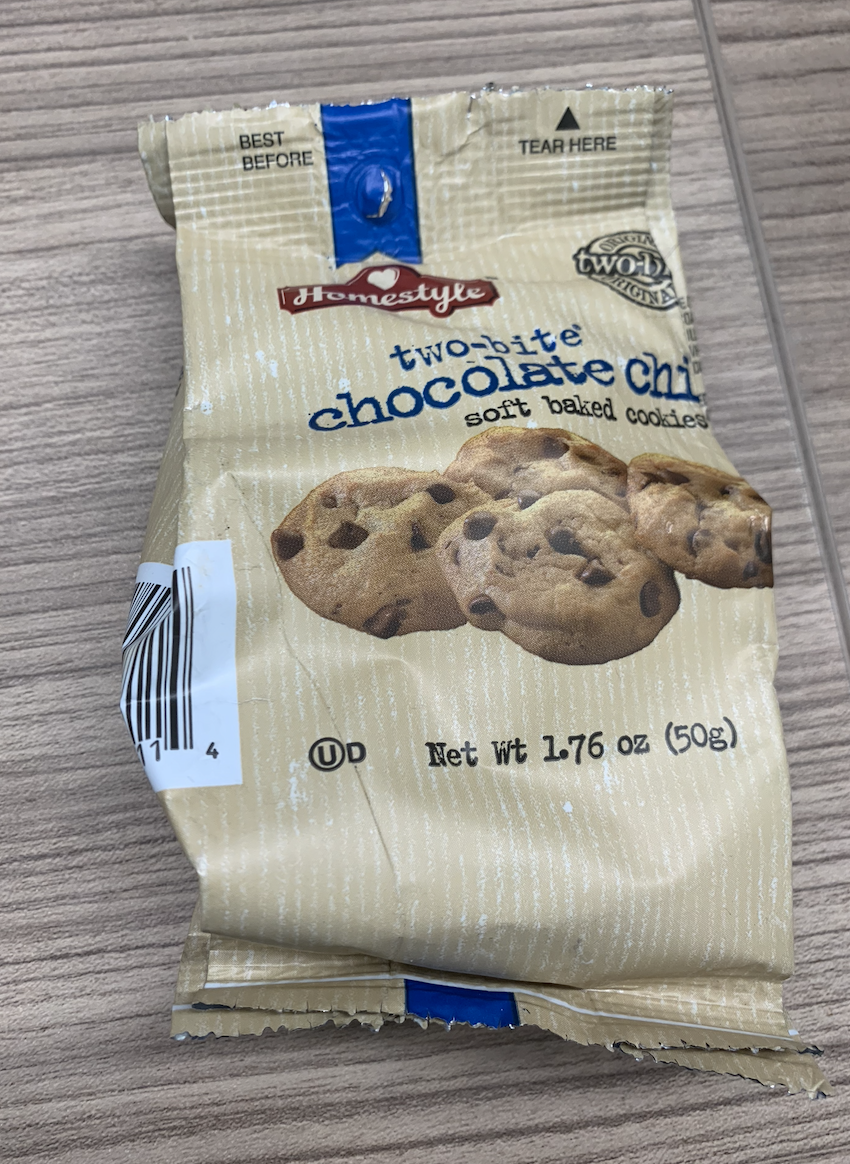cookies_1g-99g: (244, 132, 755, 947)
